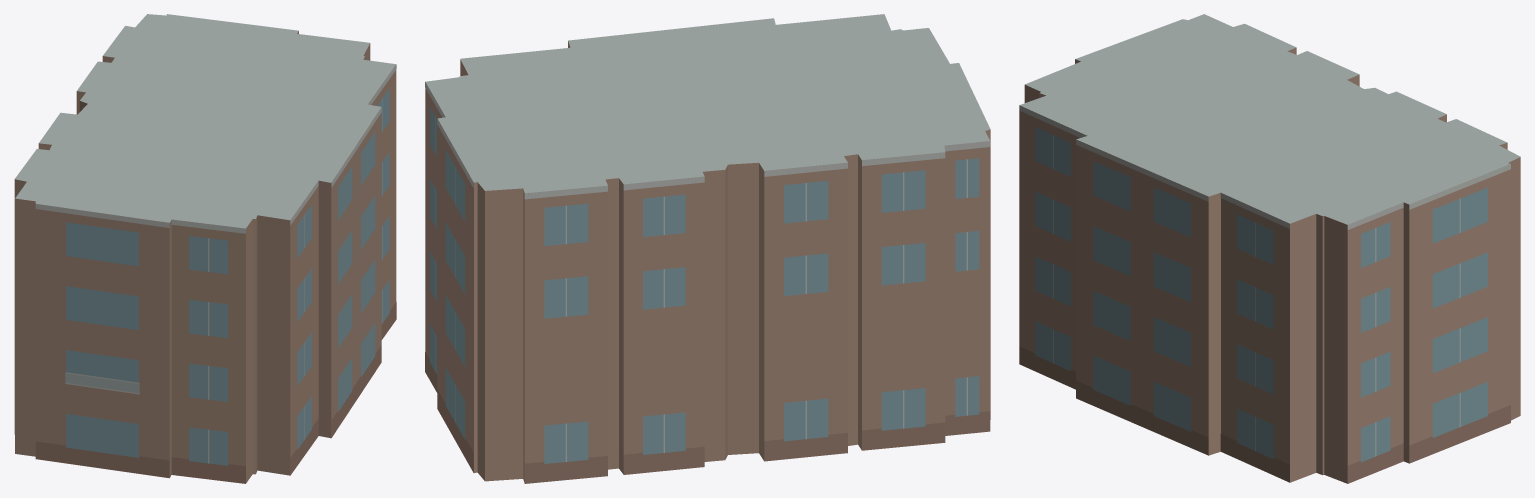
Rendered from survey-upis-32777626.glb.
The picture shows the model from 3 angles, left to right: view 1: azimuth 30°, elevation 25°; view 2: azimuth 150°, elevation 25°; view 3: azimuth 270°, elevation 25°; orthographic projection. The views are drawn at different scales.
Parts seen in each view (by area): view 1: survey-upis-32777626.tmp; view 2: survey-upis-32777626.tmp; view 3: survey-upis-32777626.tmp.
Boxes of the visible parts, box(x1,y1,x2,y2) form: survey-upis-32777626.tmp: box(14, 14, 396, 483); survey-upis-32777626.tmp: box(425, 14, 990, 483); survey-upis-32777626.tmp: box(1019, 14, 1520, 483).
Bounding box in the file's own units: 20.79 × 11.9 × 20.88.
